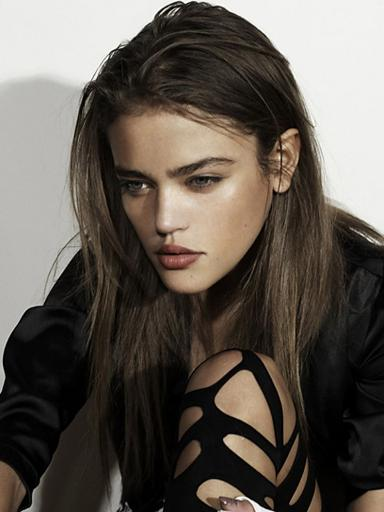left_eye: (184, 172, 227, 193)
left_lip_corner: (196, 249, 210, 266)
right_eye: (122, 179, 156, 197)
right_lip_corner: (154, 248, 163, 259)
